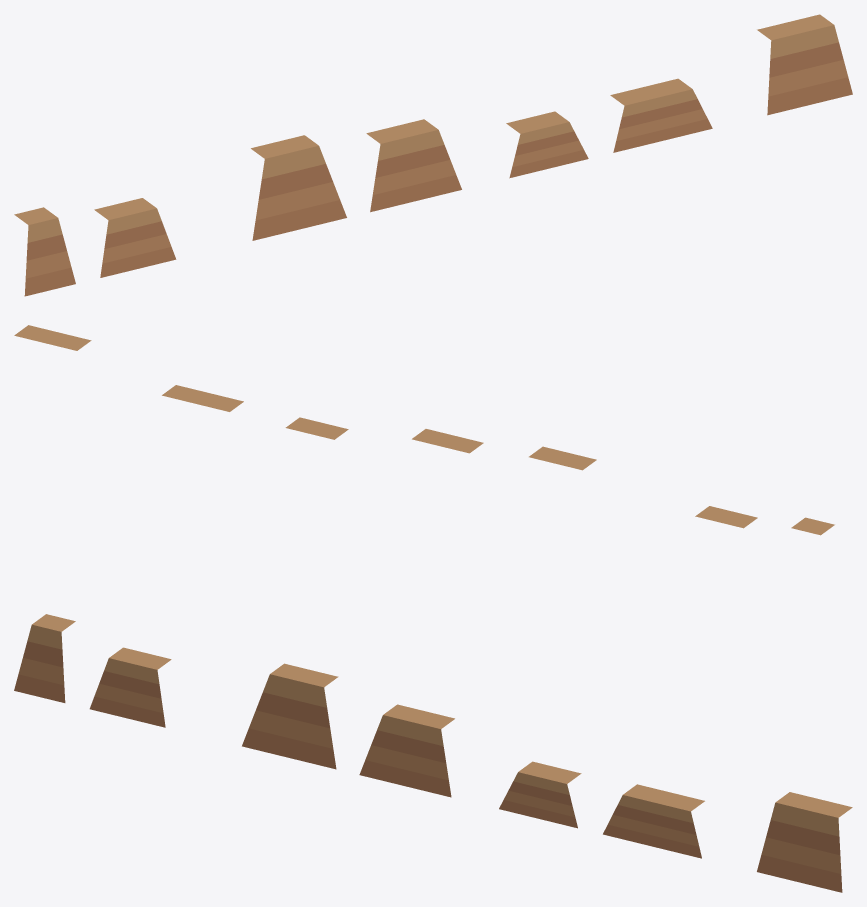
3 views of the same model, one above another, from view 1: azimuth 30°, elevation 25°; view 2: azimuth 150°, elevation 25°; view 3: azimuth 330°, elevation 25° (orthographic).
Parts seen in each view (by area): view 1: ds_hz_b; view 2: ds_hz_b; view 3: ds_hz_b.
Boxes of the visible parts, box(x1,y1,x2,y2) form: ds_hz_b: box(14, 14, 852, 296); ds_hz_b: box(14, 325, 834, 535); ds_hz_b: box(14, 614, 852, 892).
Size of the model in its own units: 397 by 32.68 by 18.53.
